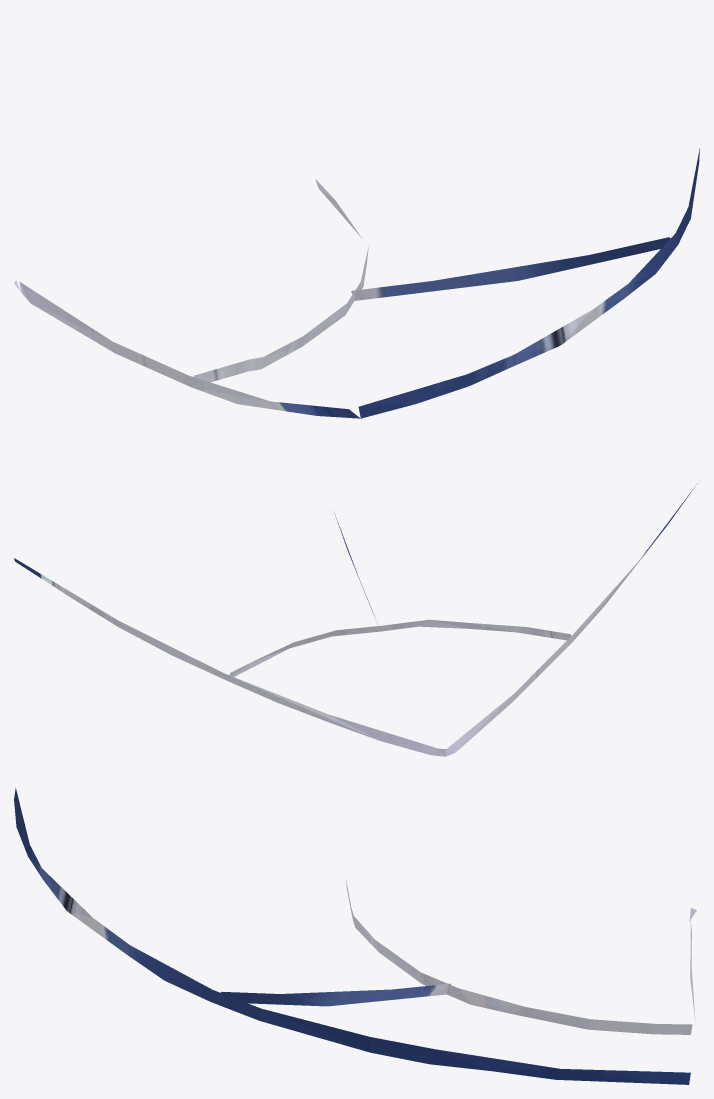
The picture shows the model from 3 angles, top to bottom: view 1: azimuth 30°, elevation 25°; view 2: azimuth 150°, elevation 25°; view 3: azimuth 270°, elevation 25°; orthographic projection. The views are drawn at different scales.
Bounding box in the file's own units: 2492263 × 553780 × 2492253.
Materials: 1 (1 with a texture image).
